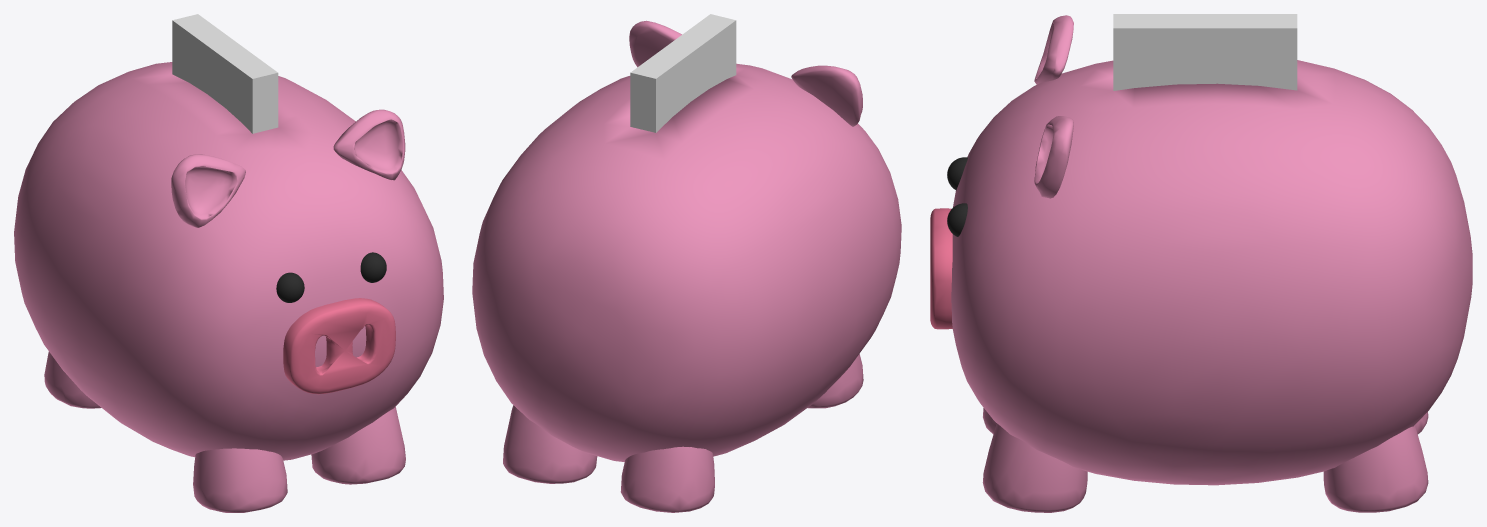
Rendered from 豚の貯金箱.fbx.
3 renders of one model, left to right at view 1: azimuth 30°, elevation 25°; view 2: azimuth 150°, elevation 25°; view 3: azimuth 270°, elevation 25°, orthographic. The views are drawn at different scales.
Visible parts, largest first — view 1: Cube, Cube.001, Cube.005, Sphere; view 2: Cube, Cube.005; view 3: Cube, Cube.005, Cube.001, Sphere.
Boxes of the visible parts, x1,y1,x2,y2 form: Cube: [14, 62, 443, 512]; Cube.001: [283, 298, 395, 394]; Cube.005: [172, 14, 278, 133]; Sphere: [276, 252, 386, 302]; Cube: [472, 20, 901, 512]; Cube.005: [630, 14, 736, 132]; Cube: [951, 15, 1472, 512]; Cube.005: [1113, 14, 1297, 90]; Cube.001: [930, 208, 952, 329]; Sphere: [947, 157, 967, 236].
Size of the model in its own units: 190 by 217 by 241.
